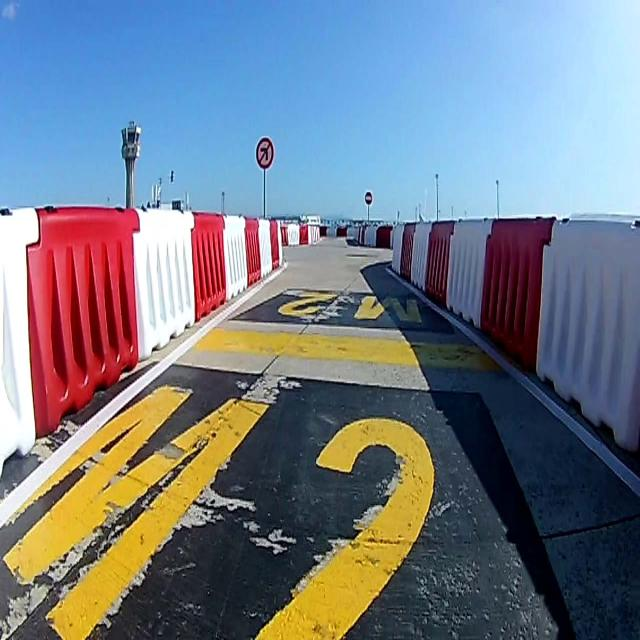soladonulmez: (256, 138, 274, 170)
